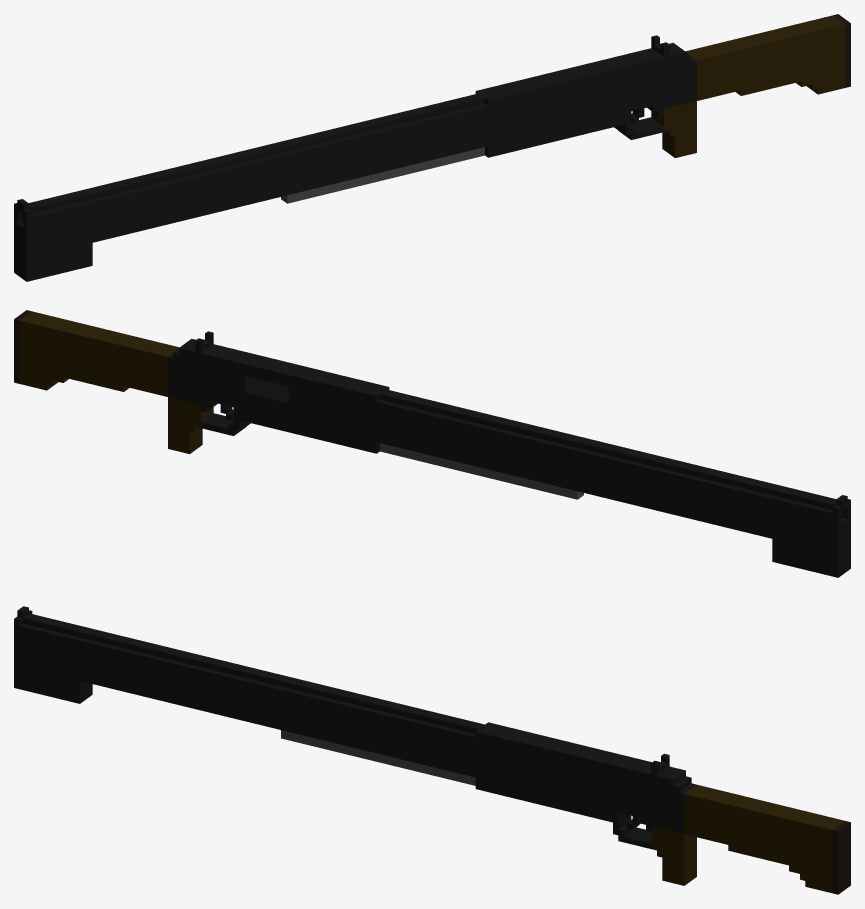
Rendered from Shotgan-1.obj.
3 renders of one model, top to bottom at view 1: azimuth 30°, elevation 25°; view 2: azimuth 150°, elevation 25°; view 3: azimuth 330°, elevation 25°, orthographic.
Bounding box in the file's own units: 15 × 2 × 0.4.
Materials: 1 (1 with a texture image).
